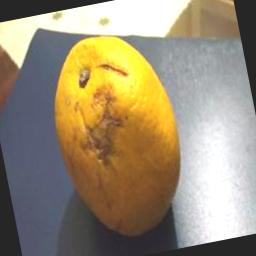Orange Unripe: (20, 16, 206, 254)
